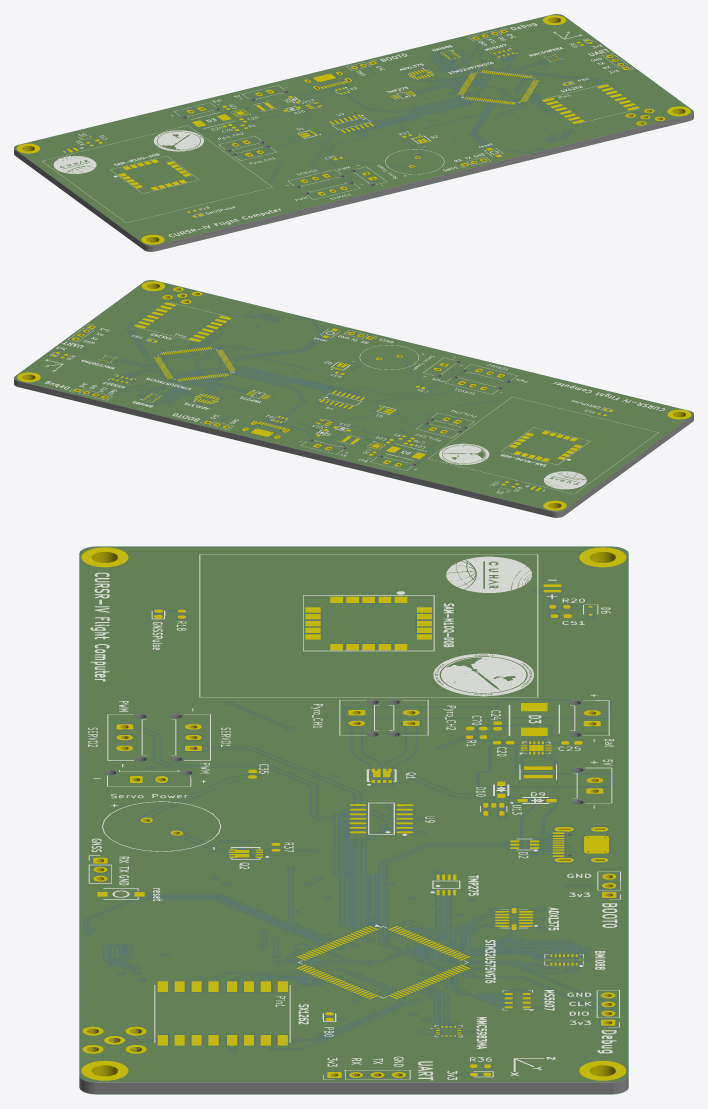
The picture shows the model from 3 angles, top to bottom: view 1: azimuth 30°, elevation 25°; view 2: azimuth 150°, elevation 25°; view 3: azimuth 270°, elevation 25°; orthographic projection. The views are drawn at different scales.
Parts seen in each view (by area): view 1: =>[0:1:1:7], =>[0:1:1:2], =>[0:1:1:9], =>[0:1:1:5]; view 2: =>[0:1:1:7], =>[0:1:1:2], =>[0:1:1:9], =>[0:1:1:5]; view 3: =>[0:1:1:7], =>[0:1:1:2], =>[0:1:1:9], =>[0:1:1:5].
Boxes of the visible parts, <box> form: =>[0:1:1:7]: <box>14,14,693,251</box>; =>[0:1:1:2]: <box>15,15,692,244</box>; =>[0:1:1:9]: <box>14,29,693,251</box>; =>[0:1:1:5]: <box>42,23,637,237</box>; =>[0:1:1:7]: <box>14,280,693,517</box>; =>[0:1:1:2]: <box>15,281,692,510</box>; =>[0:1:1:9]: <box>14,293,693,517</box>; =>[0:1:1:5]: <box>45,302,664,494</box>; =>[0:1:1:7]: <box>79,546,628,1094</box>; =>[0:1:1:2]: <box>81,547,626,1081</box>; =>[0:1:1:9]: <box>79,590,628,1093</box>; =>[0:1:1:5]: <box>88,554,620,1080</box>.
Size of the model in its own units: 0.15 by 0.00165 by 0.065.
